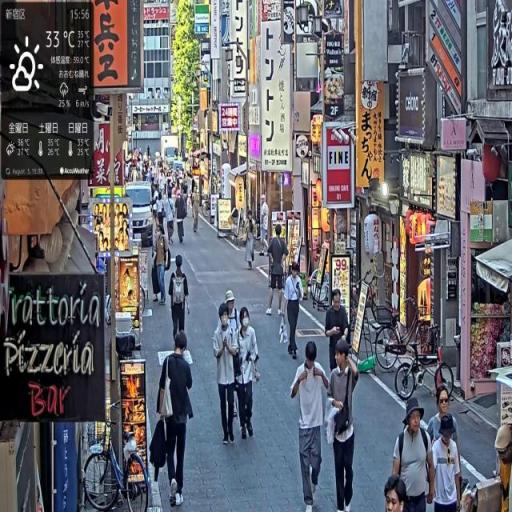person: (291, 340, 343, 512), (153, 331, 195, 510), (327, 339, 361, 512), (390, 398, 434, 512), (213, 299, 242, 448), (233, 307, 262, 440), (431, 414, 464, 512), (283, 261, 306, 361), (427, 387, 460, 456), (326, 290, 350, 384), (266, 224, 289, 320), (169, 253, 192, 347), (152, 214, 171, 307), (384, 474, 409, 512), (246, 211, 259, 272), (175, 185, 188, 244), (190, 181, 201, 236)
